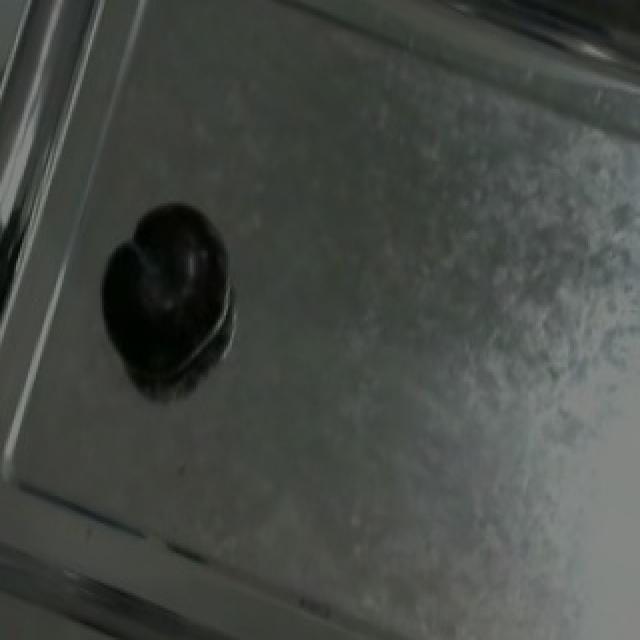Fruit: (78, 188, 240, 392)
